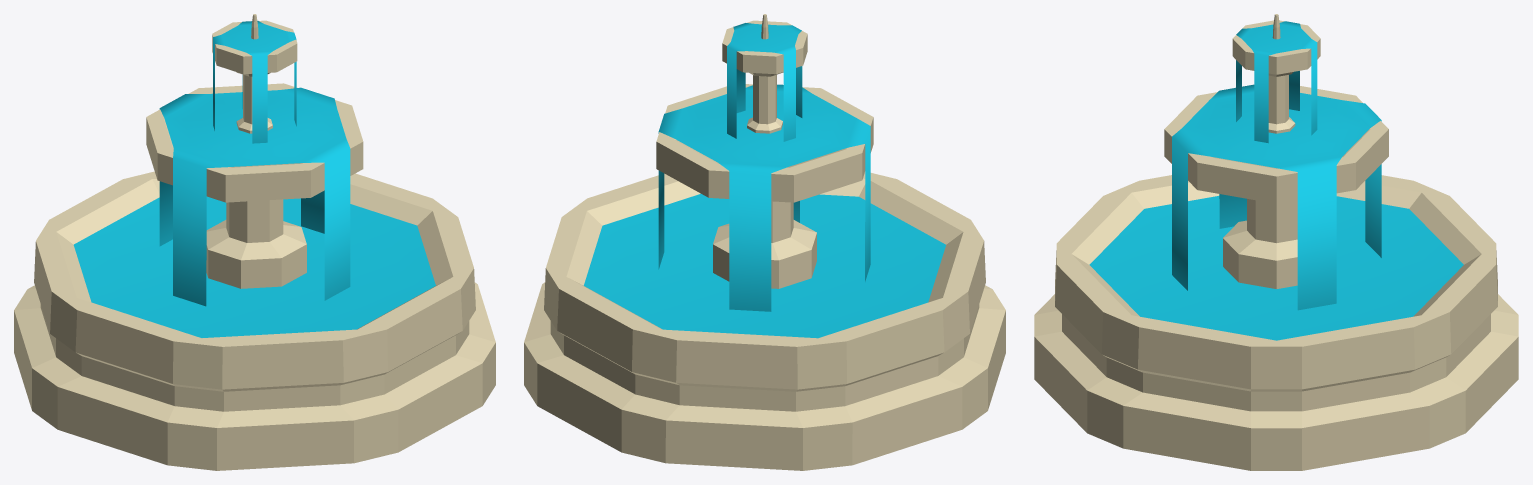
The model's file is FountainNew.fbx.
3 renders of one model, left to right at view 1: azimuth 30°, elevation 25°; view 2: azimuth 150°, elevation 25°; view 3: azimuth 270°, elevation 25°, orthographic.
Parts seen in each view (by area): view 1: Cube, Plane; view 2: Cube, Plane; view 3: Cube, Plane.
Part boxes in pixels (x1,y1,x2,y2): Cube: (14, 14, 495, 470); Plane: (73, 21, 435, 337); Cube: (524, 14, 1005, 470); Plane: (583, 23, 945, 338); Cube: (1034, 14, 1518, 470); Plane: (1089, 21, 1463, 340).
Size of the model in its own units: 180 by 145 by 180.
